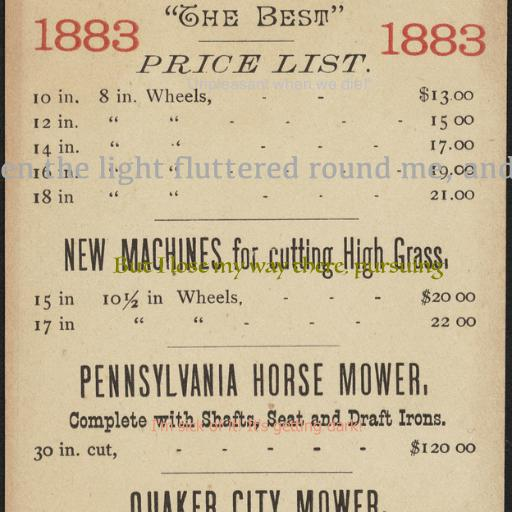Kefa: (0, 156, 512, 186)
Luminari: (113, 256, 443, 280)
SF Pro: (187, 77, 373, 93)
Tahoma: (151, 419, 363, 435)
